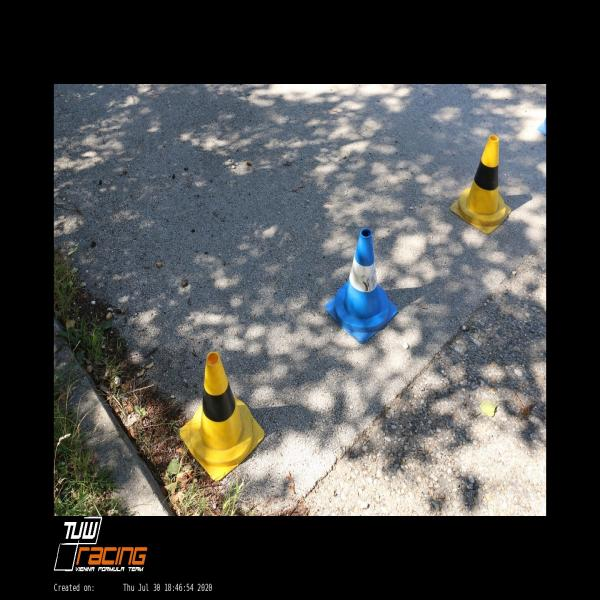blue_cone: (324, 228, 398, 344)
yellow_cone: (180, 351, 266, 481), (449, 134, 511, 234)
